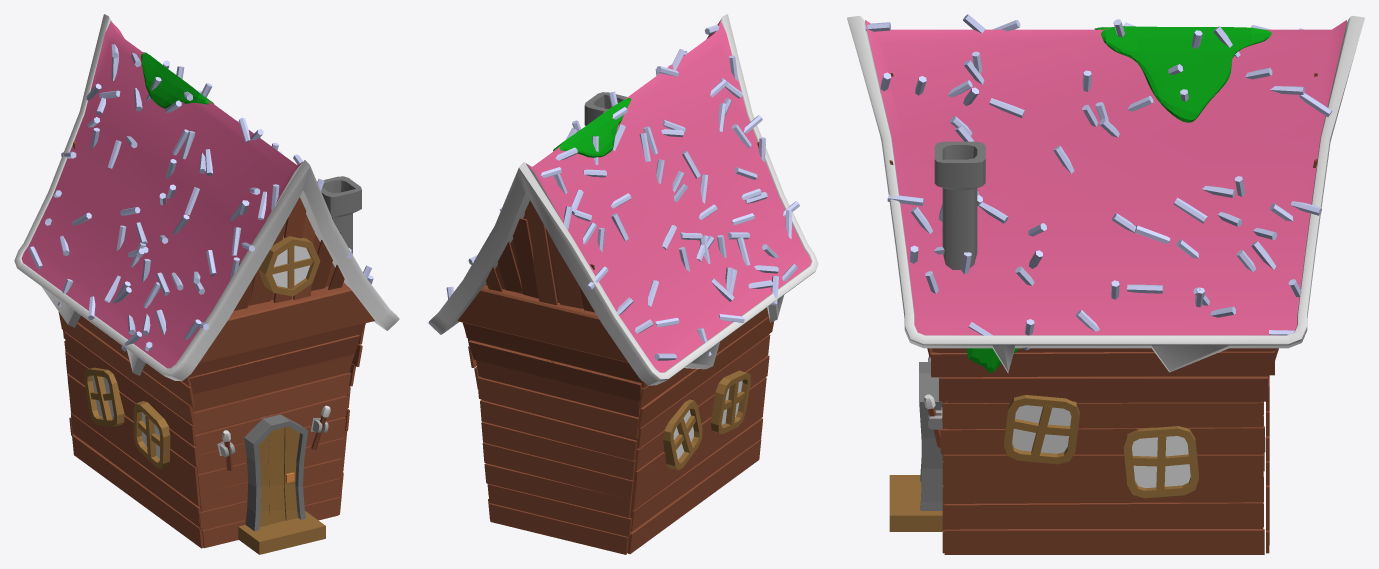
File: chatoupka.fbx
The picture shows the model from 3 angles, left to right: view 1: azimuth 30°, elevation 25°; view 2: azimuth 150°, elevation 25°; view 3: azimuth 270°, elevation 25°; orthographic projection. The views are drawn at different scales.
Visible parts, largest first — view 1: Cube.002, Cube.010, Cube.009, Cube, Cube.003, Circle, Cube.012, Cube.006, Cube.007, Cube.001, Plane.002, Cube.008; view 2: Cube.002, Cube.011, Cube.009, Cube, Cube.007, Cube.006, Plane.002, Cube.001; view 3: Cube.002, Cube.008, Plane.002, Cube.001, Cube.005, Cube.004, Cube.003, Cube.012, Cube, Cube.011.
Part boxes in pixels (x1,y1,x2,y2): Cube.002: (14,14,399,380); Cube.010: (188,197,363,548); Cube.009: (58,312,203,548); Cube: (69,214,374,506); Cube.003: (244,414,307,531); Circle: (258,236,320,296); Cube.012: (238,511,325,554); Cube.006: (133,401,170,469); Cube.007: (84,367,125,426); Cube.001: (317,176,361,253); Plane.002: (141,52,213,108); Cube.008: (338,326,364,514); Cube.002: (428,14,818,385); Cube.011: (463,200,642,554); Cube.009: (628,307,774,553); Cube: (457,214,767,552); Cube.007: (663,399,702,470); Cube.006: (710,370,750,434); Plane.002: (553,98,631,157); Cube.001: (584,92,627,125); Cube.002: (847,15,1364,373); Cube.008: (931,348,1274,554); Plane.002: (1094,26,1271,122); Cube.001: (934,141,985,269); Cube.005: (1123,426,1198,498); Cube.004: (1003,395,1079,464); Cube.003: (919,362,946,510); Cube.012: (889,475,942,531); Cube: (937,352,1264,528); Cube.011: (1265,73,1317,553).
Bounding box in the file's own units: 353 × 566 × 534.
